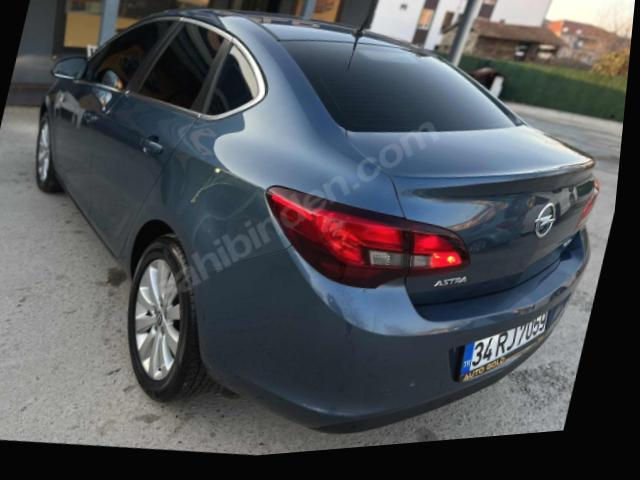plaka: (458, 311, 550, 382)
